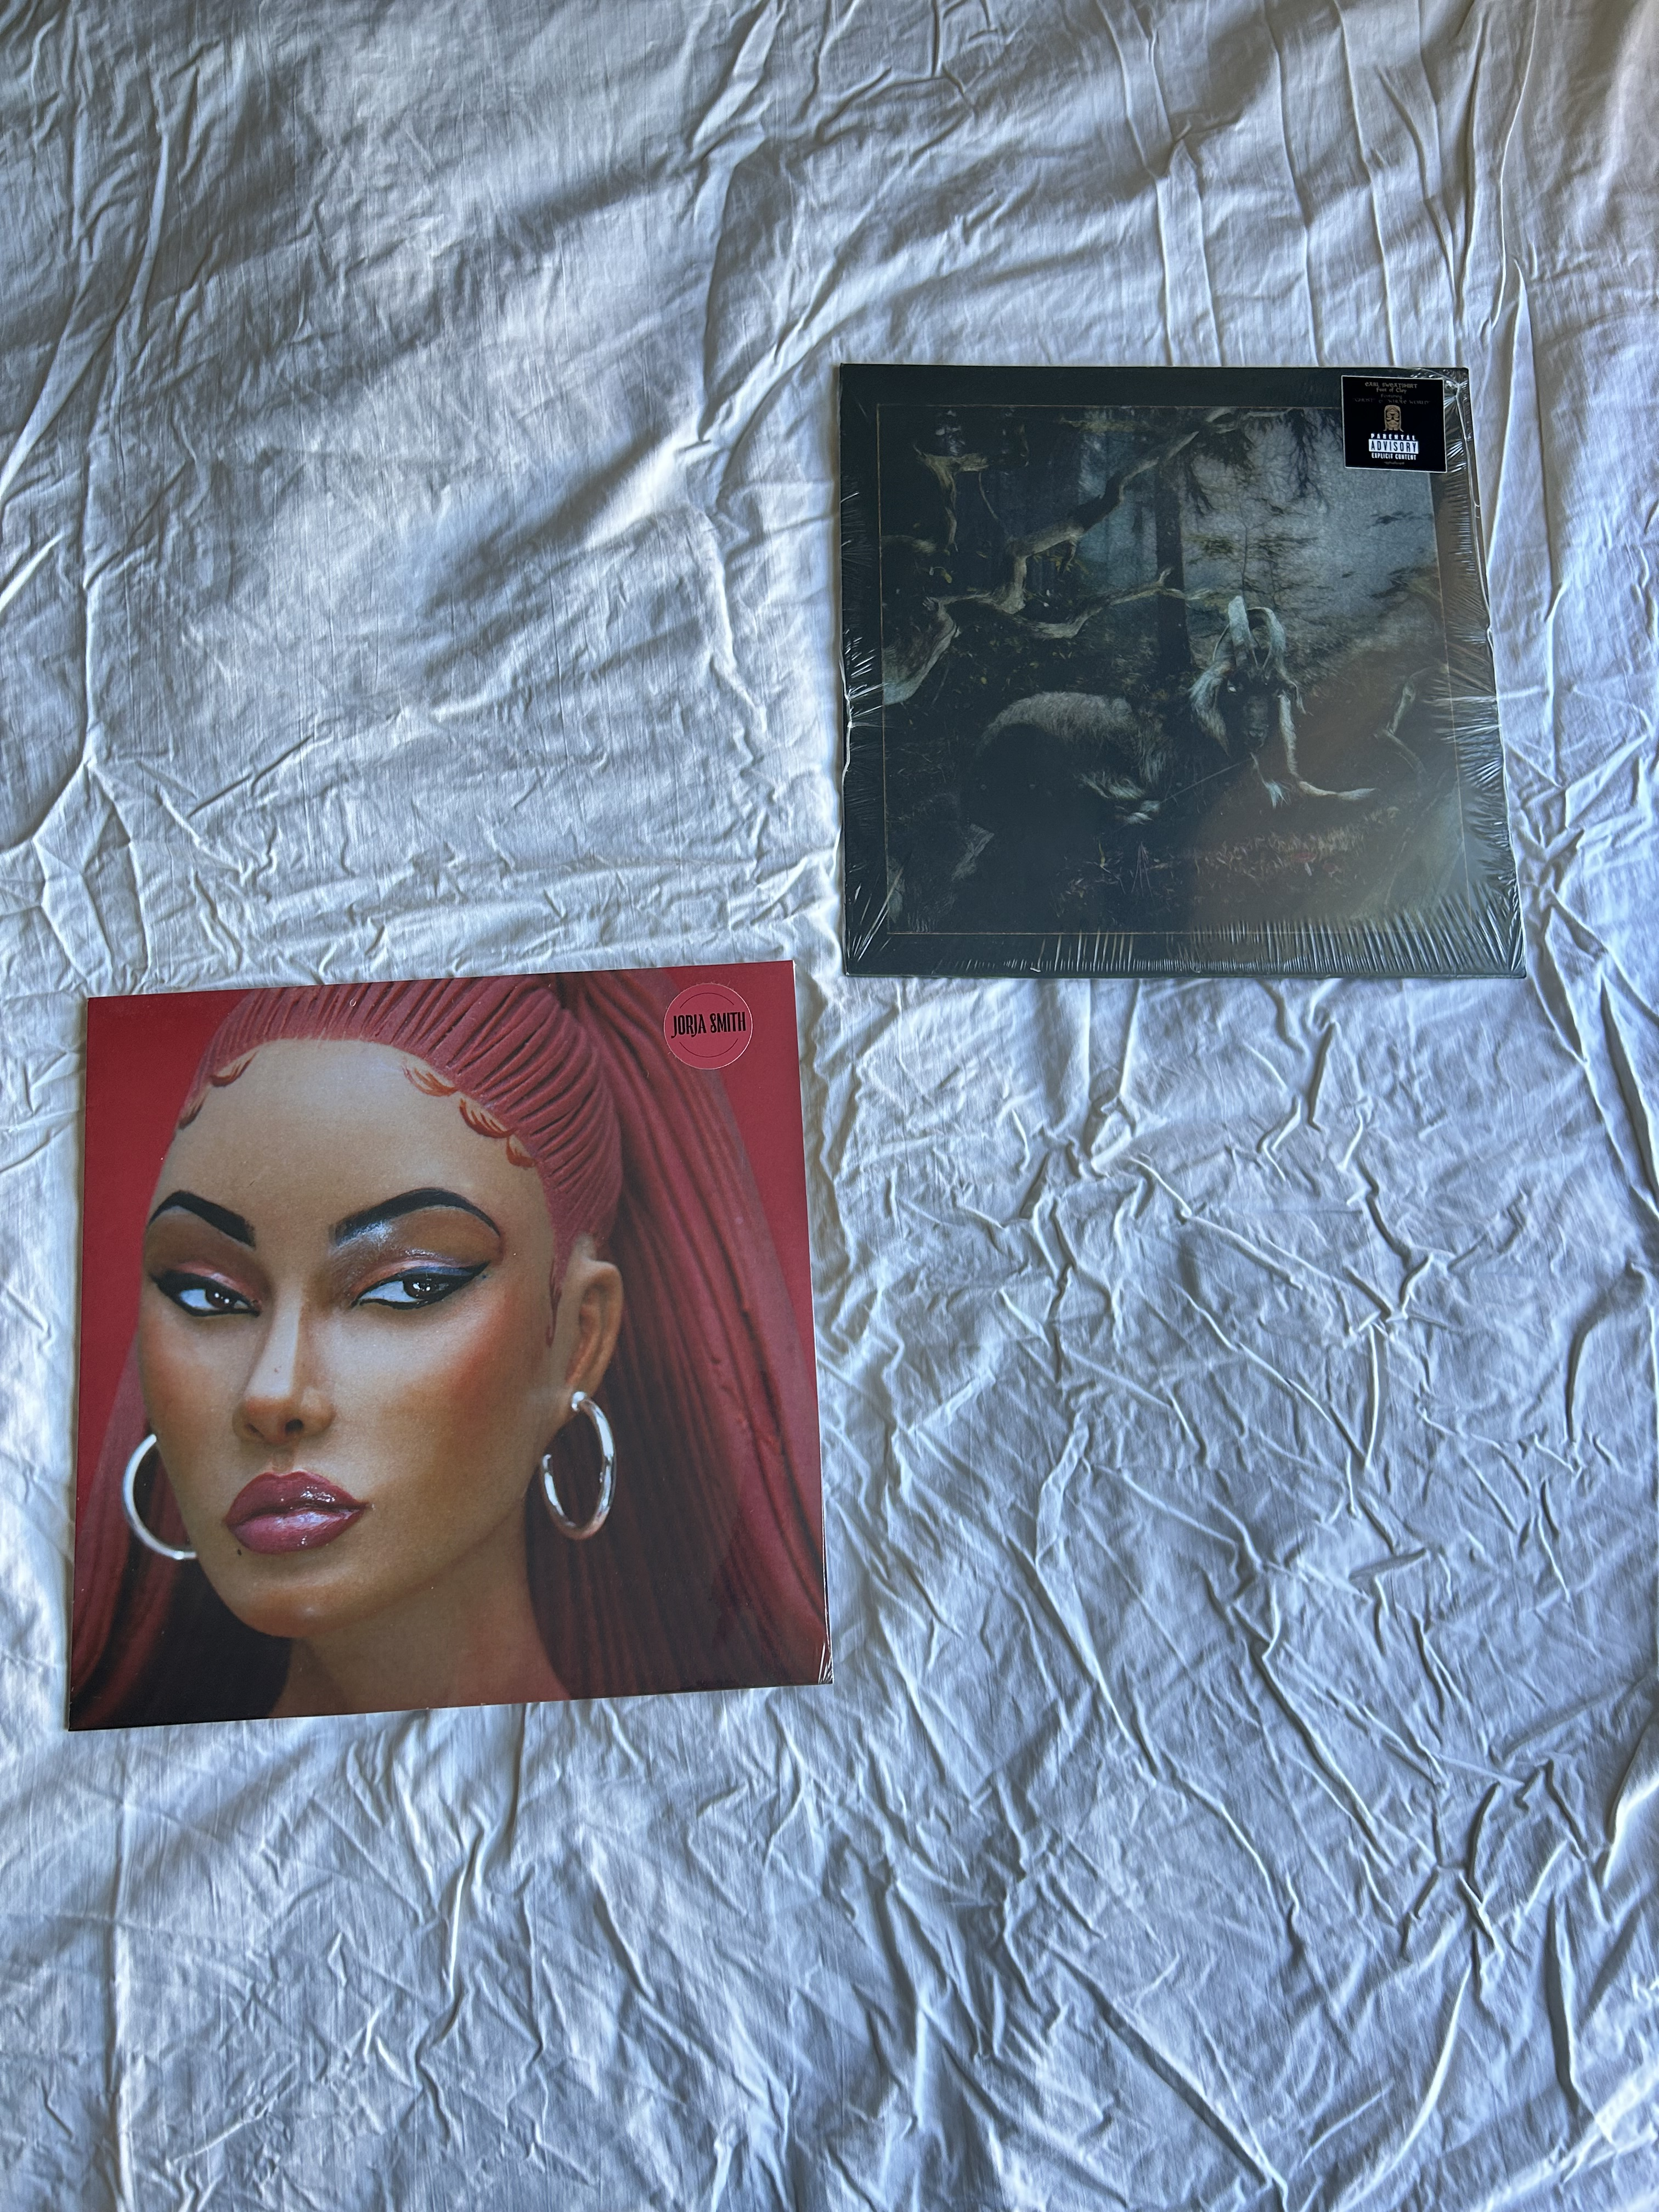earl sweatchirt_feet of clay: (838, 361, 1511, 982)
jorja smith_be right back: (31, 989, 796, 1726)
